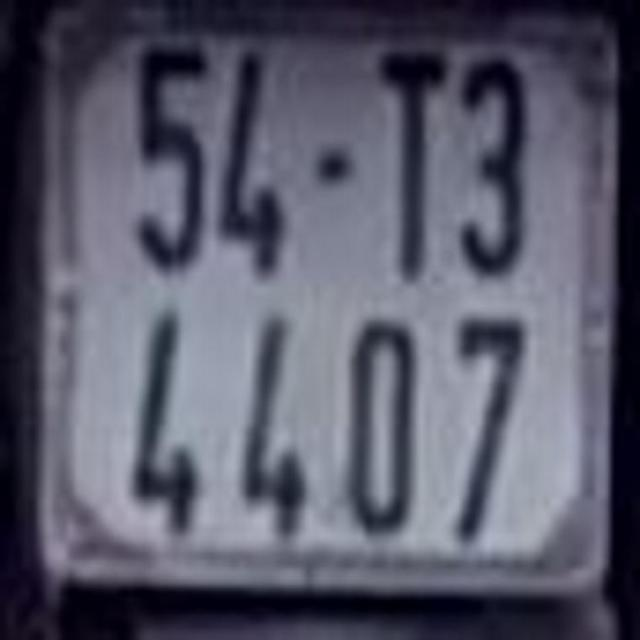0: (340, 314, 424, 537)
3: (457, 47, 531, 280)
4: (128, 304, 204, 536), (238, 312, 315, 538), (217, 47, 290, 284)
5: (126, 40, 213, 274)
7: (447, 309, 531, 542)
T: (368, 42, 452, 280)
